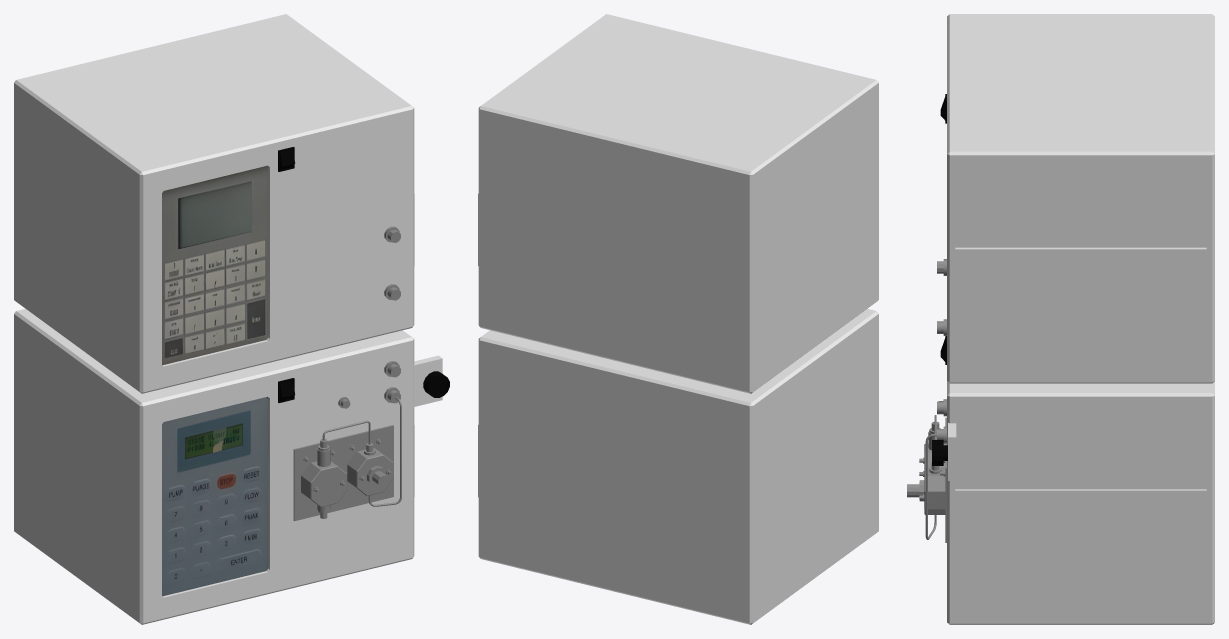
Rendered from SM_凝胶色谱仪.fbx.
3 renders of one model, left to right at view 1: azimuth 30°, elevation 25°; view 2: azimuth 150°, elevation 25°; view 3: azimuth 270°, elevation 25°, orthographic. The views are drawn at different scales.
Visible parts, largest first — view 1: SM_凝胶色谱仪; view 2: SM_凝胶色谱仪; view 3: SM_凝胶色谱仪.
Boxes of the visible parts, box(x1,y1,x2,y2) form: SM_凝胶色谱仪: box(14, 14, 449, 624); SM_凝胶色谱仪: box(478, 14, 878, 624); SM_凝胶色谱仪: box(907, 14, 1214, 624).
Size of the model in its own units: 0.33 by 0.473 by 0.2789.
